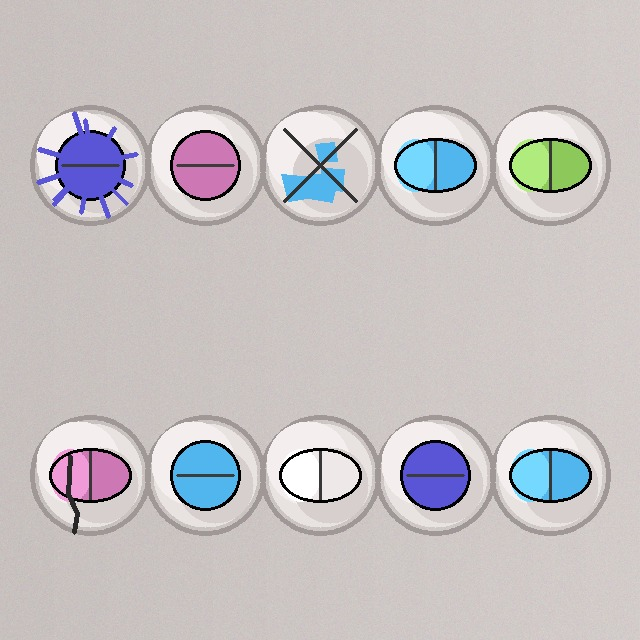broken: (258, 103, 382, 227)
crack: (28, 413, 152, 537)
flash: (28, 103, 152, 227)
